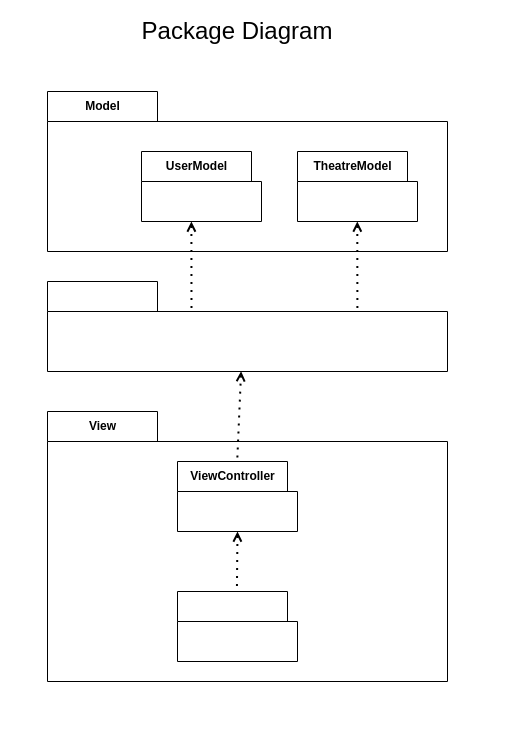
Image size: 525x739. Some labels were removed from this diagram. Each missing label, with the centre of its shape:
Controller: pixel 247 326
Views: pixel 237 626
